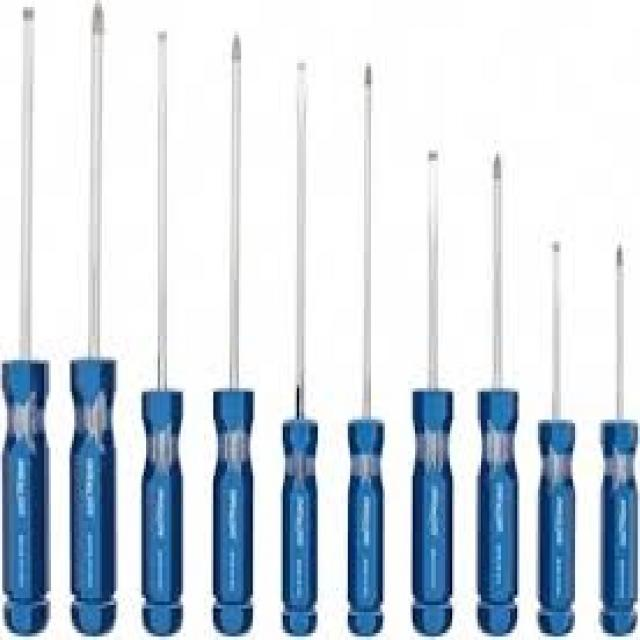Screwdriver: (132, 20, 192, 640), (336, 48, 398, 638), (0, 0, 57, 638), (203, 20, 260, 637), (67, 0, 120, 638), (273, 50, 329, 640), (470, 121, 530, 640), (401, 122, 459, 640), (528, 214, 585, 640), (594, 226, 640, 640)
